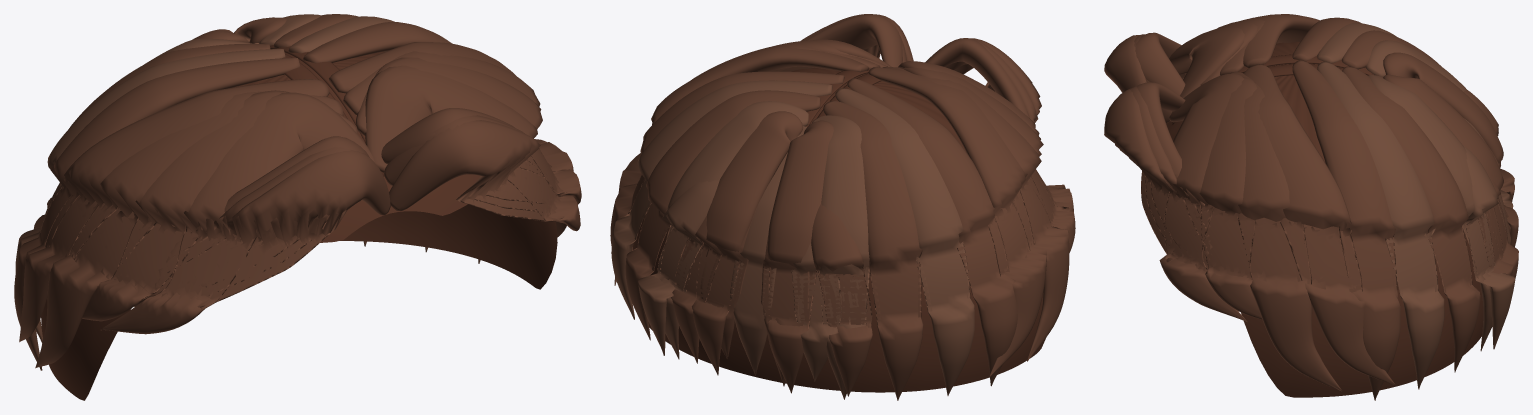
File: Masculine-middle-part-headband251-hair.glb
The picture shows the model from 3 angles, left to right: view 1: azimuth 30°, elevation 25°; view 2: azimuth 150°, elevation 25°; view 3: azimuth 270°, elevation 25°; orthographic projection. The views are drawn at different scales.
Parts seen in each view (by area): view 1: 226 hair / Hair / chestnut226.002, 226 hair / Hair / main251.001, 226 hair / Hair / recessed roots251.002, 226 hair / Hair / accent251.001, 226 hair / Hair / recessed roots251.003; view 2: 226 hair / Hair / main251.001, 226 hair / Hair / accent251.001, 226 hair / Hair / chestnut226.002, 226 hair / Hair / recessed roots251.002, 226 hair / Hair / recessed roots251.003; view 3: 226 hair / Hair / chestnut226.002, 226 hair / Hair / main251.001, 226 hair / Hair / accent251.001, 226 hair / Hair / recessed roots251.002, 226 hair / Hair / recessed roots251.003.
Boxes of the visible parts, x1,y1,x2,y2 form: 226 hair / Hair / chestnut226.002: [19, 42, 581, 368]; 226 hair / Hair / main251.001: [14, 14, 480, 370]; 226 hair / Hair / recessed roots251.002: [41, 51, 557, 400]; 226 hair / Hair / accent251.001: [15, 14, 427, 343]; 226 hair / Hair / recessed roots251.003: [270, 45, 384, 176]; 226 hair / Hair / main251.001: [610, 71, 1017, 400]; 226 hair / Hair / accent251.001: [611, 80, 974, 399]; 226 hair / Hair / chestnut226.002: [614, 14, 1075, 377]; 226 hair / Hair / recessed roots251.002: [633, 68, 1045, 392]; 226 hair / Hair / recessed roots251.003: [806, 69, 880, 126]; 226 hair / Hair / chestnut226.002: [1104, 14, 1395, 391]; 226 hair / Hair / main251.001: [1292, 17, 1518, 400]; 226 hair / Hair / accent251.001: [1317, 23, 1515, 389]; 226 hair / Hair / recessed roots251.002: [1166, 42, 1483, 397]; 226 hair / Hair / recessed roots251.003: [1171, 54, 1373, 125].
Bounding box in the file's own units: 1.07 × 0.5895 × 0.8758.
